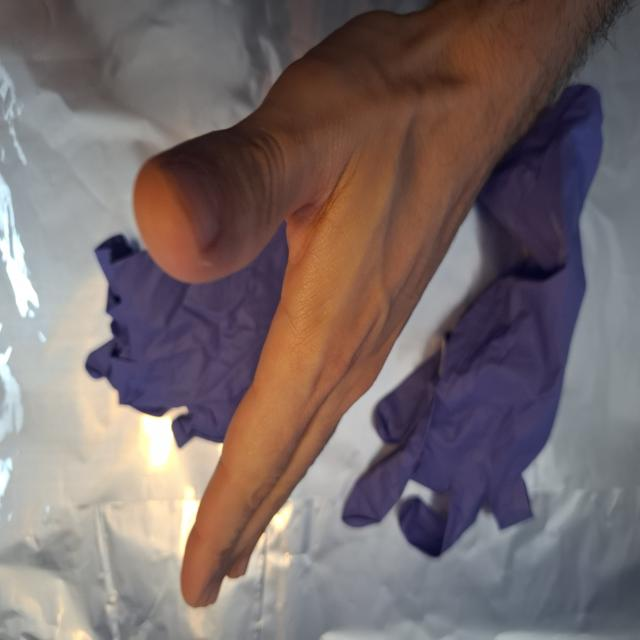glove_off: (128, 7, 531, 610)
